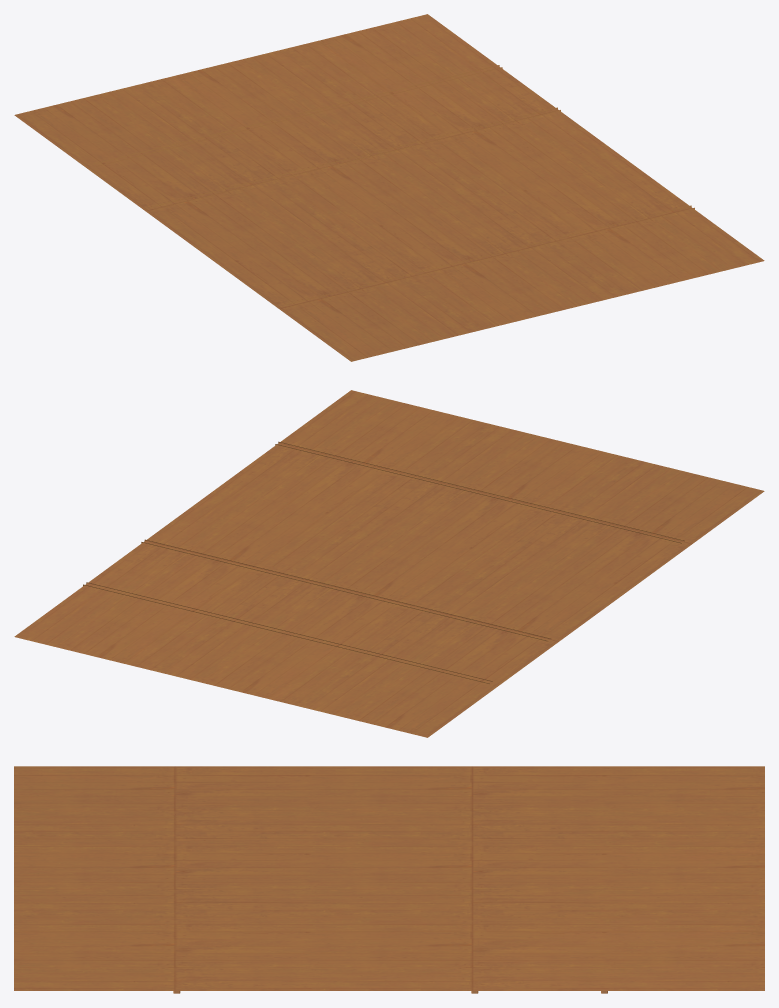
File: JapaneseRestaurant_Ceiling.fbx
The picture shows the model from 3 angles, top to bottom: view 1: azimuth 30°, elevation 25°; view 2: azimuth 150°, elevation 25°; view 3: azimuth 270°, elevation 25°; orthographic projection. The views are drawn at different scales.
Parts seen in each view (by area): view 1: JapaneseRestaurant_Ceiling; view 2: JapaneseRestaurant_Ceiling; view 3: JapaneseRestaurant_Ceiling.
Boxes of the visible parts, x1=… form: JapaneseRestaurant_Ceiling: x1=14, y1=14, x2=764, y2=361; JapaneseRestaurant_Ceiling: x1=14, y1=390, x2=764, y2=737; JapaneseRestaurant_Ceiling: x1=14, y1=766, x2=764, y2=993.
Size of the model in its own units: 453 by 2.42 by 638.
